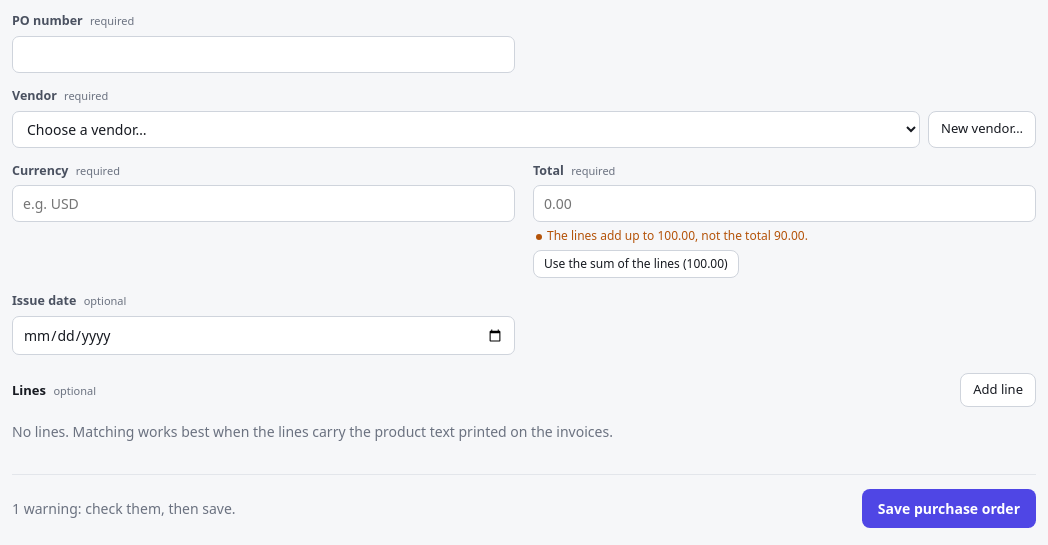
POForm (manual path) › offers the sum of the lines but only applies it when pressed
This screenshot has width=1048, height=545.
Check: the field labelled "Total" is empty, box [533,185,1036,222]
Click the button "Use the sum of the lines (100.00)" at [636, 264], box [533,250,739,278]
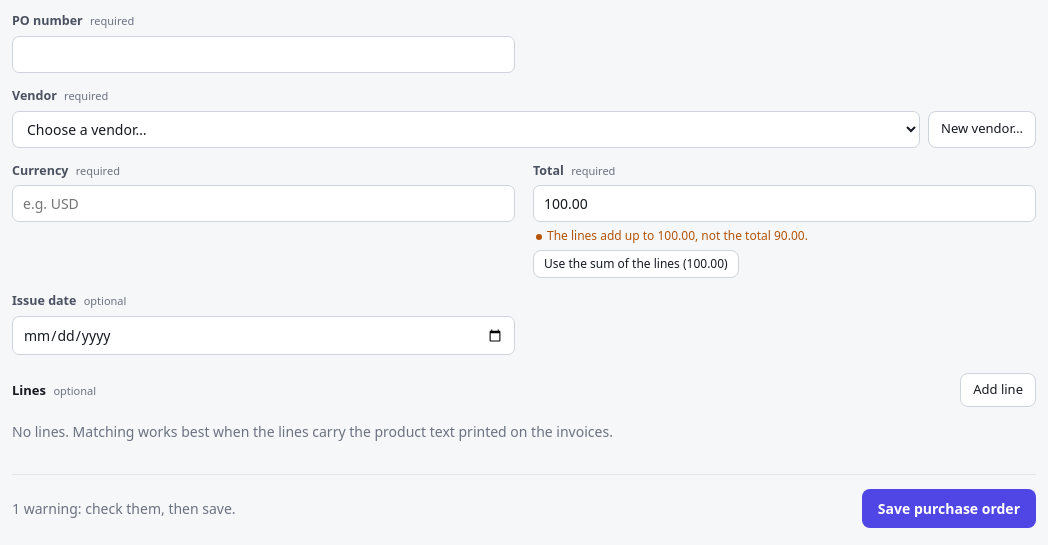
Check: the field labelled "Total" holds "100.00", box [533,185,1036,222]
